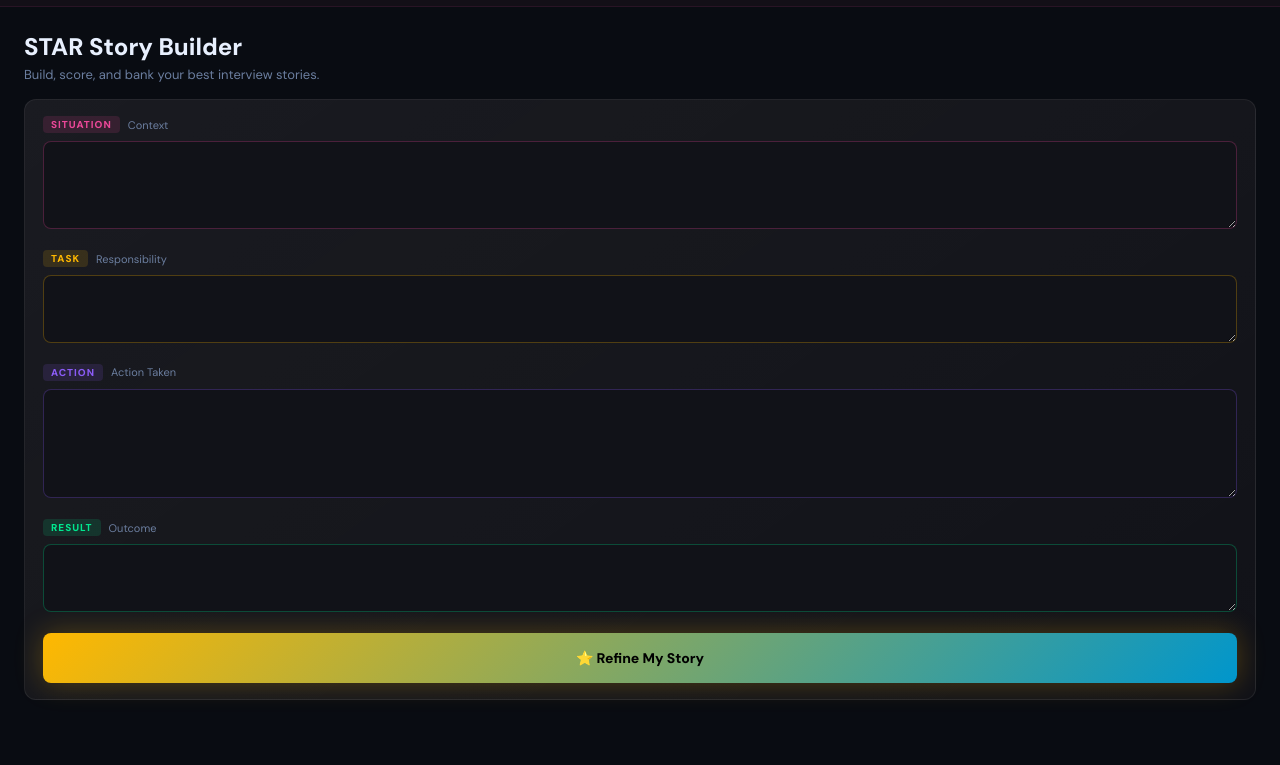
server scoring (F-1): the browser never sends a score to be stored › keeps the story unsaved and shows the error when the server refuses
Type "Our checkout team had to migrate platforms while 2 million users shopped daily." into the text box named "Situation" at (640, 185), box [43, 141, 1237, 229]
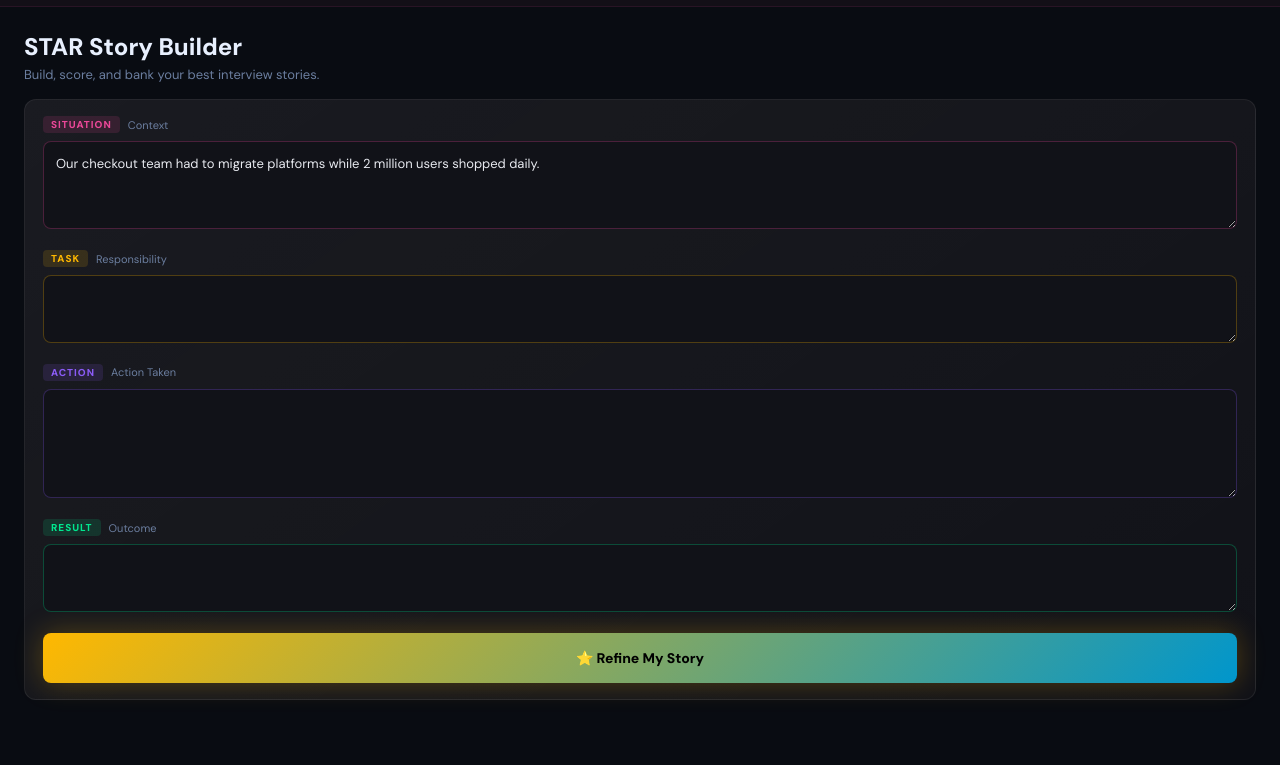
Type "I owned the migration plan and had to avoid downtime." into the text box named "Task" at (640, 309), box [43, 275, 1237, 343]
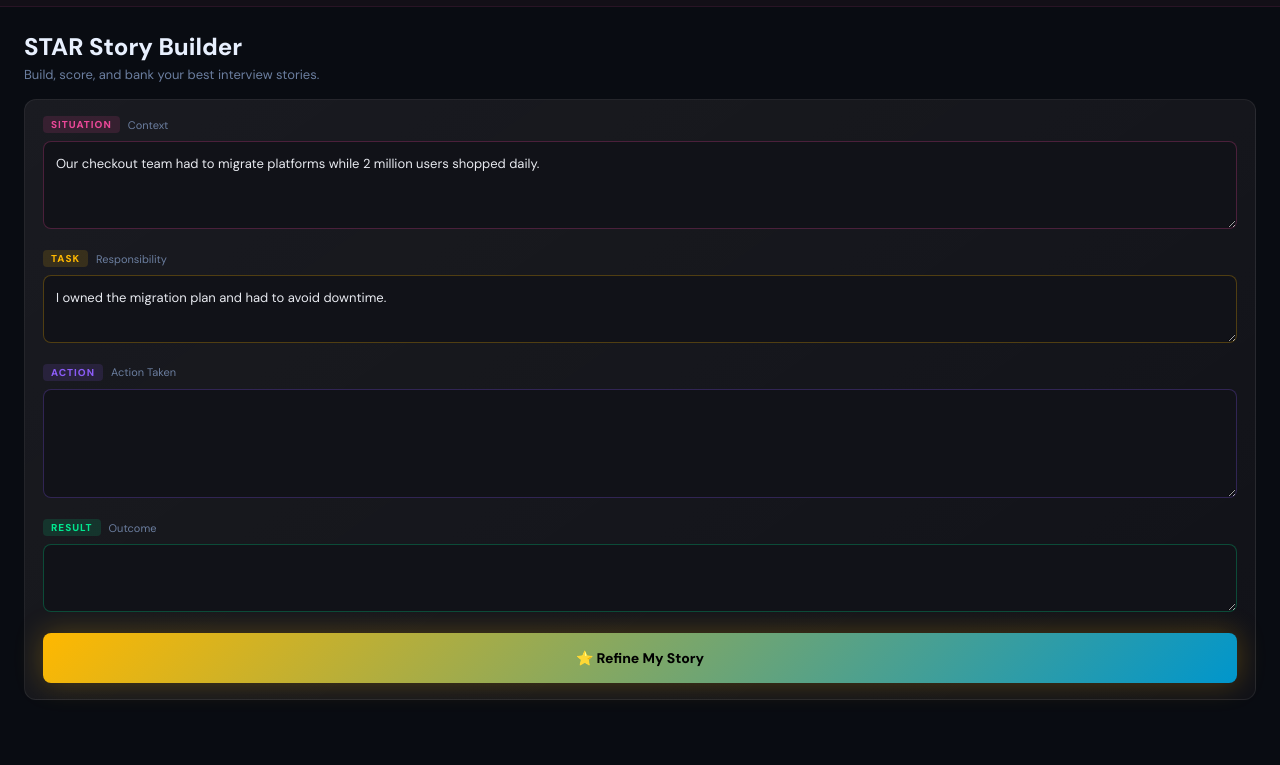
Type "I set up blue-green deployments and wrote rollback scripts." into the text box named "Action" at (640, 444), box [43, 389, 1237, 498]
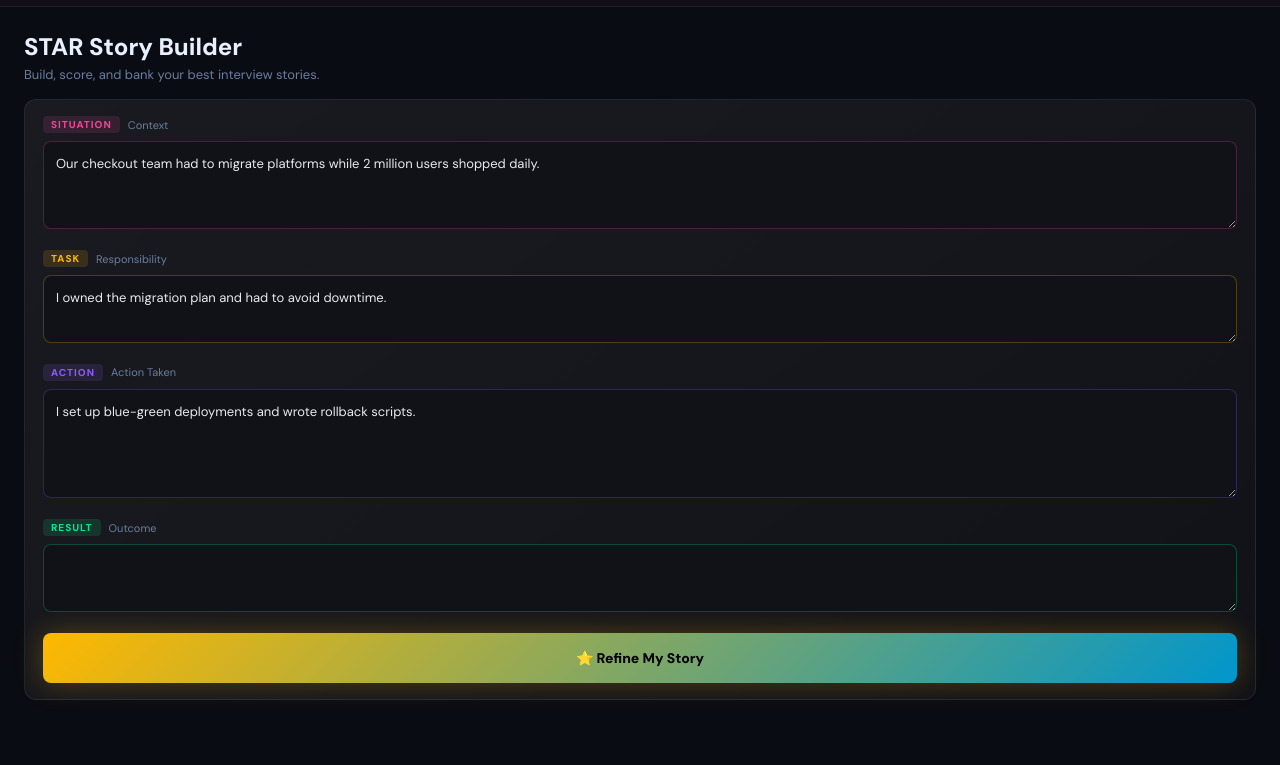
Type "We finished with no downtime and conversion rose 15 percent." into the text box named "Result" at (640, 578), box [43, 544, 1237, 612]
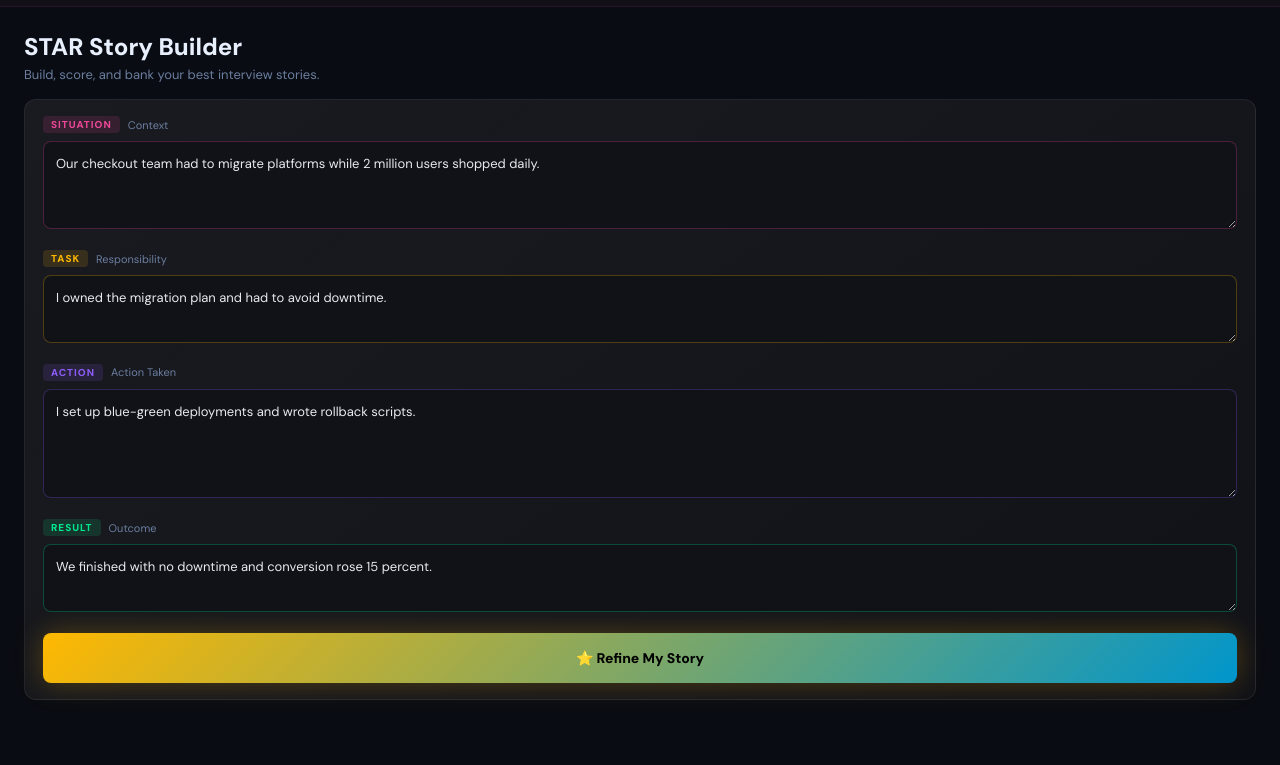
Click the button "⭐ Refine My Story" at (640, 658), box [43, 633, 1237, 683]
(page scrolled)
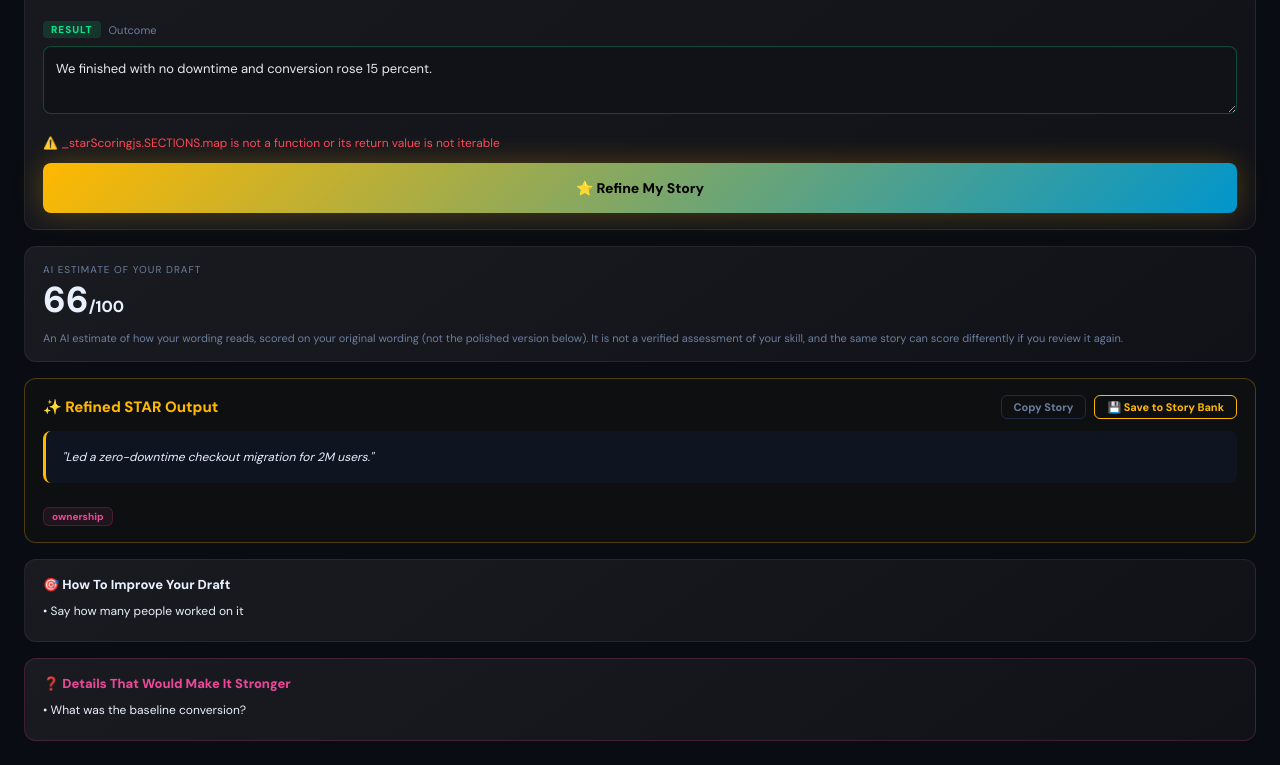
Check: the text "✨ Refined STAR Output" is shown, box [43, 397, 218, 417]
Click the button "💾 Save to Story Bank" at (1166, 407), box [1094, 395, 1237, 419]
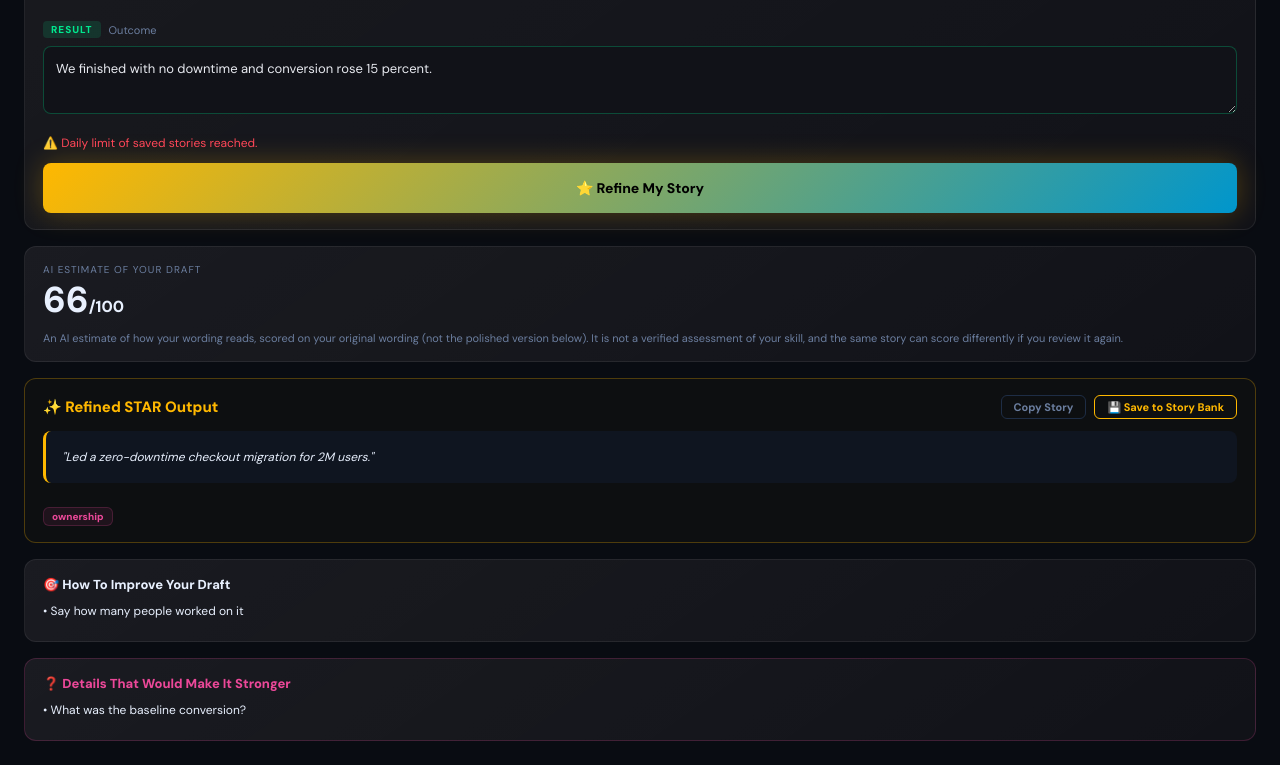
Check: the message shows "Daily limit", box [61, 135, 258, 151]
